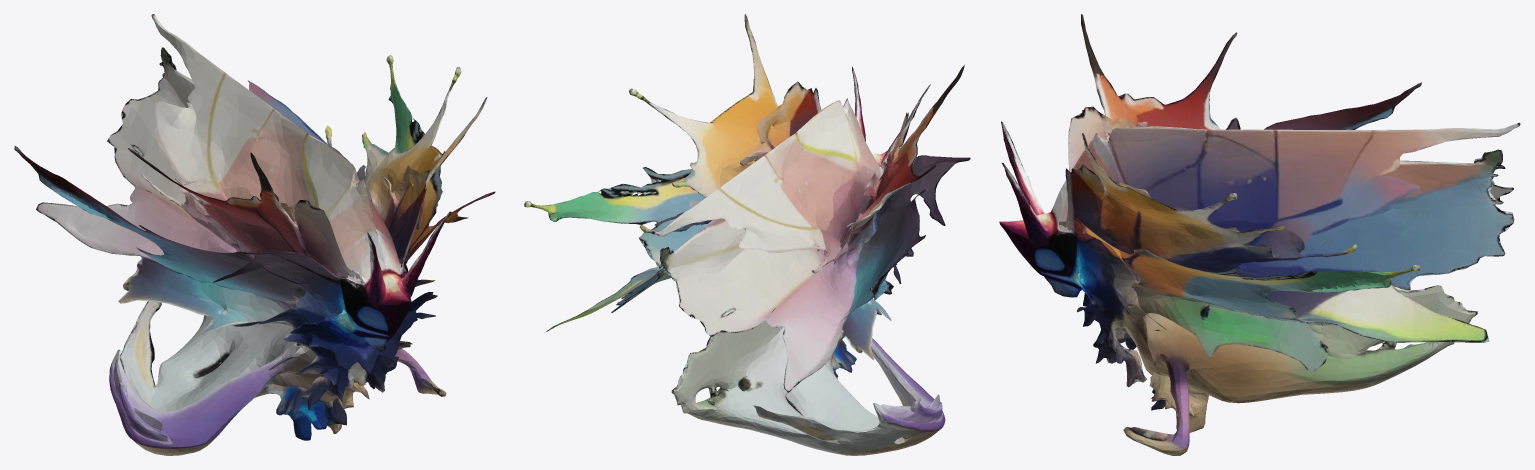
The model's file is pet_pk_lapras.glb.
3 views of the same model, side by side, from view 1: azimuth 30°, elevation 25°; view 2: azimuth 150°, elevation 25°; view 3: azimuth 270°, elevation 25° (orthographic). The views are drawn at different scales.
Visible parts, largest first — view 1: geometry_0; view 2: geometry_0; view 3: geometry_0.
Boxes of the visible parts, x1,y1,x2,y2 form: geometry_0: (14, 14, 495, 455); geometry_0: (524, 14, 970, 455); geometry_0: (999, 14, 1520, 455).
Size of the model in its own units: 1.34 by 1.2 by 1.6.
Materials: 1 (1 with a texture image).
